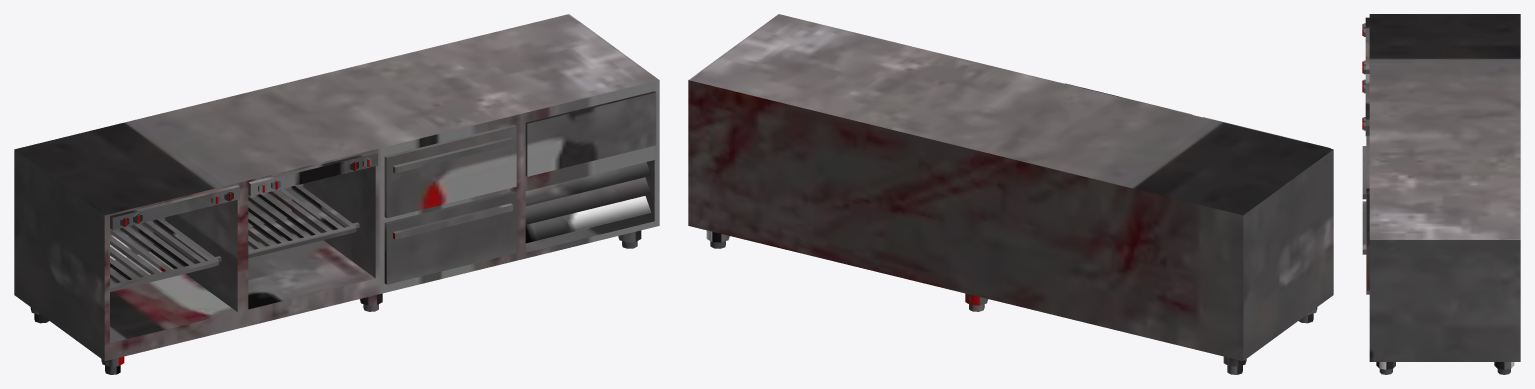
Rendered from fryer.glb.
3 renders of one model, left to right at view 1: azimuth 30°, elevation 25°; view 2: azimuth 150°, elevation 25°; view 3: azimuth 270°, elevation 25°, orthographic. The views are drawn at different scales.
Parts seen in each view (by area): view 1: SM_KitchenOven_Kitchen_0; view 2: SM_KitchenOven_Kitchen_0; view 3: SM_KitchenOven_Kitchen_0.
Part boxes in pixels (x1,y1,x2,y2): SM_KitchenOven_Kitchen_0: (14,14,659,374); SM_KitchenOven_Kitchen_0: (688,14,1333,374); SM_KitchenOven_Kitchen_0: (1362,14,1520,374).
Bounding box in the file's own units: 2.77 × 0.8015 × 0.8211.
1 material, 1 textured.
